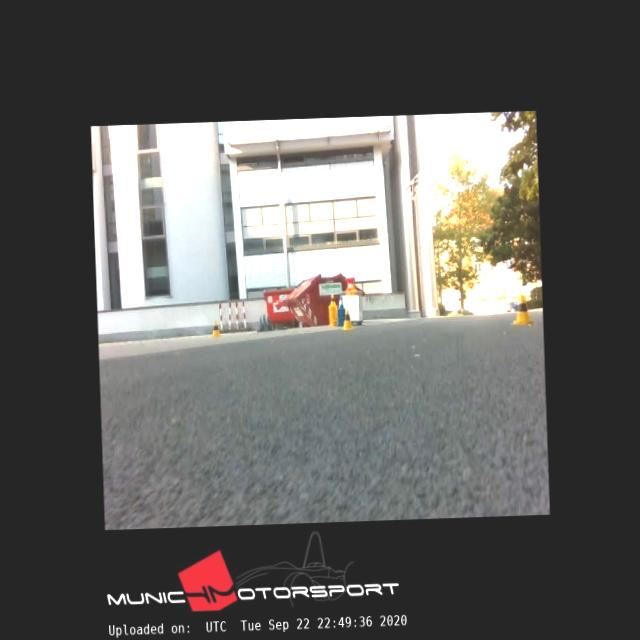yellow_cone: (512, 295, 532, 324), (341, 308, 353, 330), (210, 320, 220, 336), (328, 294, 337, 306)
